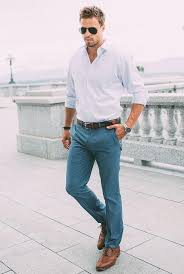F_belt: (65, 116, 127, 131)
F_shirt: (62, 46, 149, 123)
